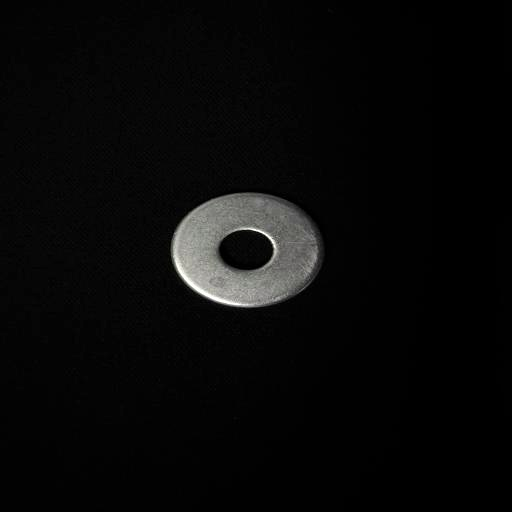Product: (171, 193, 324, 308)
Scratch: (291, 221, 326, 279), (258, 236, 281, 271)
